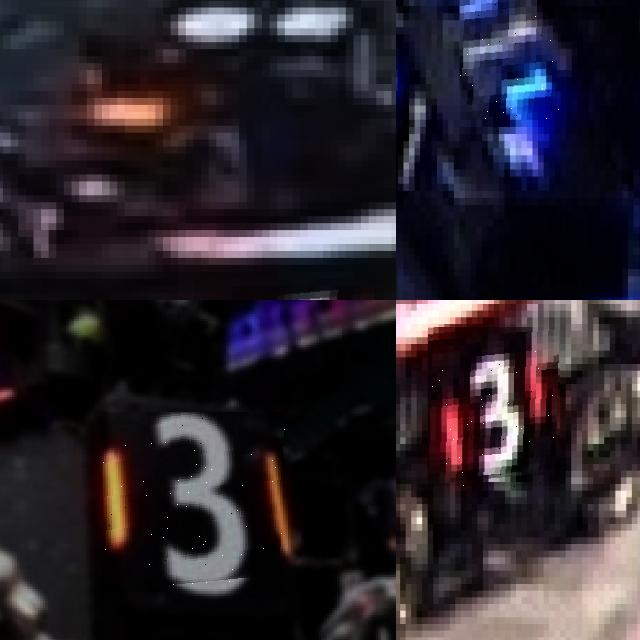B1: (459, 0, 560, 119)
R3: (103, 412, 285, 592), (428, 328, 560, 488)
